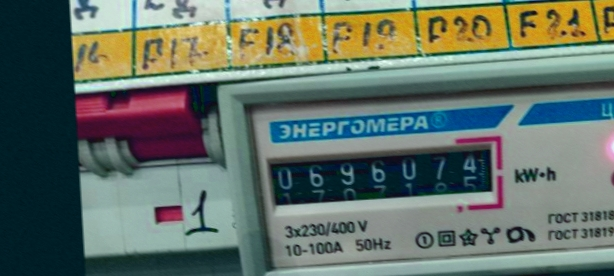0: (272, 163, 293, 189), (399, 153, 416, 180)
4: (460, 149, 477, 173)
5: (461, 173, 477, 191)
6: (305, 159, 326, 187), (367, 157, 386, 182)
7: (428, 152, 447, 179)
9: (335, 159, 356, 185)
screen: (253, 129, 509, 224)
